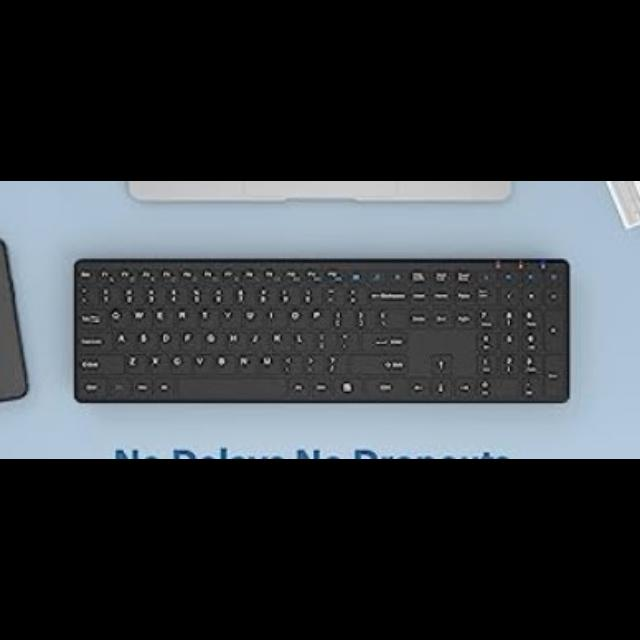Computer-Keyboard: (71, 257, 576, 405)
